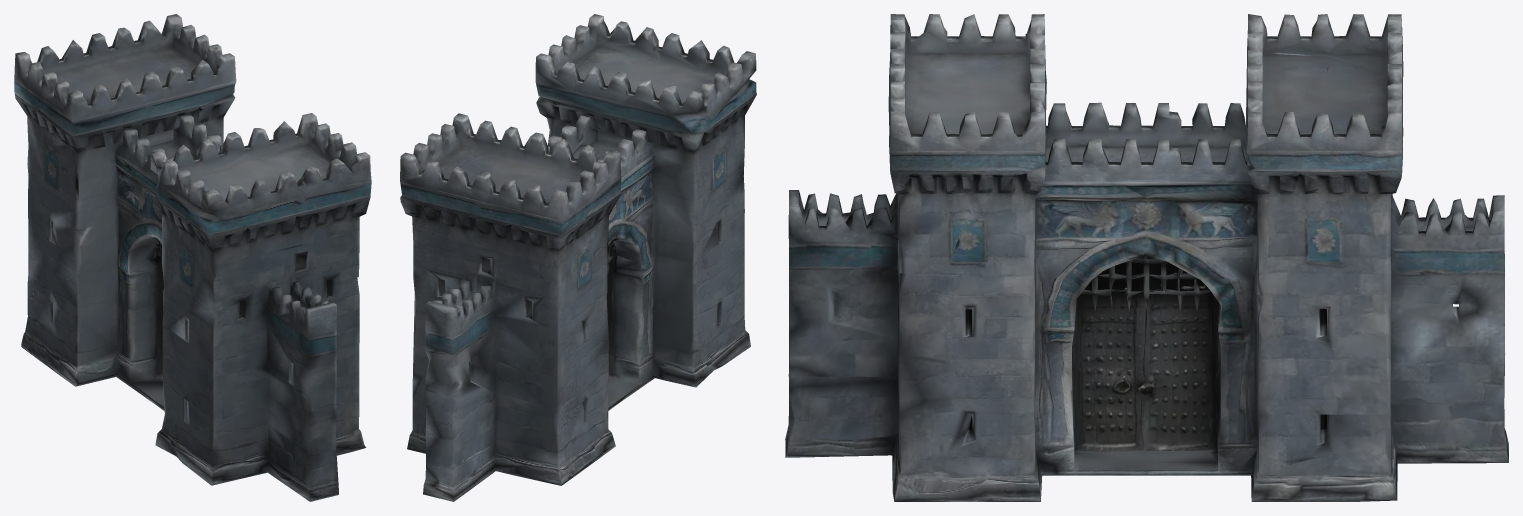
File: castle_gate_stone.glb
The picture shows the model from 3 angles, left to right: view 1: azimuth 30°, elevation 25°; view 2: azimuth 150°, elevation 25°; view 3: azimuth 270°, elevation 25°; orthographic projection. The views are drawn at different scales.
Visible parts, largest first — view 1: tripo_node_3b004a20-0374-40e4-b3be-526f84e99a32; view 2: tripo_node_3b004a20-0374-40e4-b3be-526f84e99a32; view 3: tripo_node_3b004a20-0374-40e4-b3be-526f84e99a32.
Boxes of the visible parts, bbox=[...] form: tripo_node_3b004a20-0374-40e4-b3be-526f84e99a32: bbox=[14, 14, 371, 501]; tripo_node_3b004a20-0374-40e4-b3be-526f84e99a32: bbox=[400, 14, 756, 501]; tripo_node_3b004a20-0374-40e4-b3be-526f84e99a32: bbox=[785, 14, 1508, 501].
Bounding box in the file's own units: 0.3373 × 0.5777 × 0.9799.
Materials: 1 (1 with a texture image).
